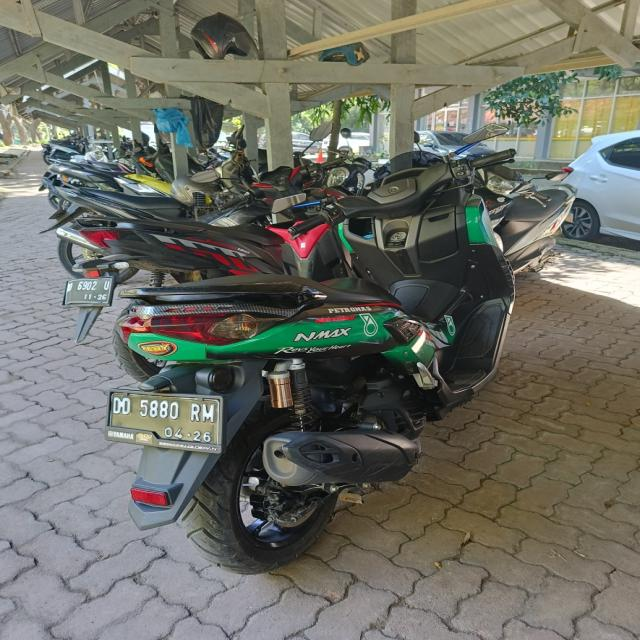plates: (101, 383, 229, 452)
